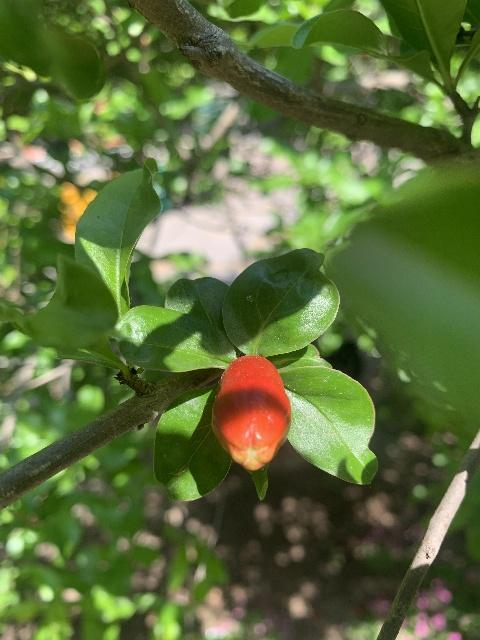bud: (212, 355, 290, 470)
